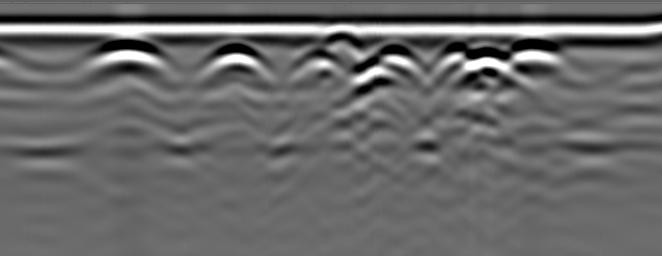pipe: (321, 24, 365, 47)
steel: (84, 37, 172, 75), (205, 42, 270, 80), (513, 38, 561, 71), (369, 42, 418, 74), (295, 47, 347, 77), (469, 44, 517, 75), (438, 42, 469, 71)
